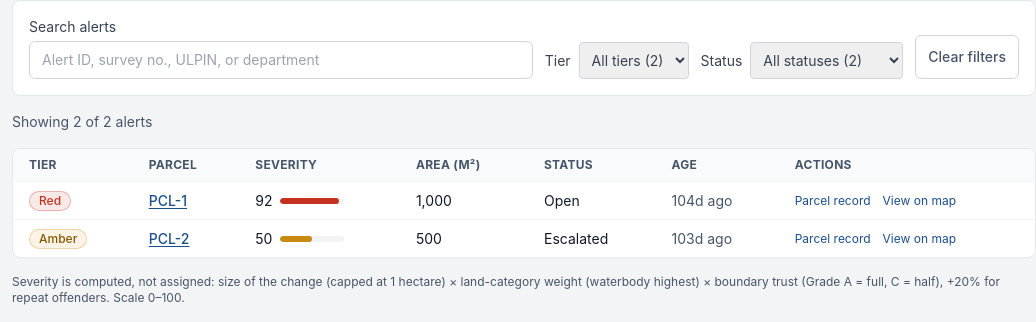
it: AlertsTable — mobile card presentation › shows the same no-results message in the card list as the table when filters exclude everything
Type "no-such-alert" into the search field labelled "Search alerts" at {"x": 281, "y": 60}, box [29,41,533,79]
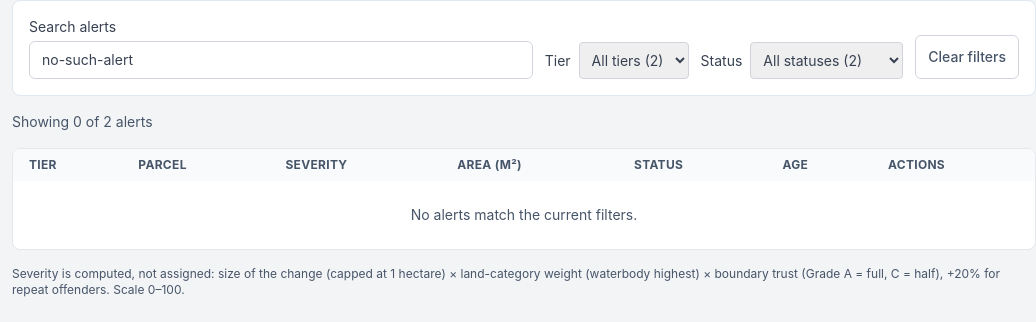
expect the text "No alerts match the current filters." is shown 2 times: met
